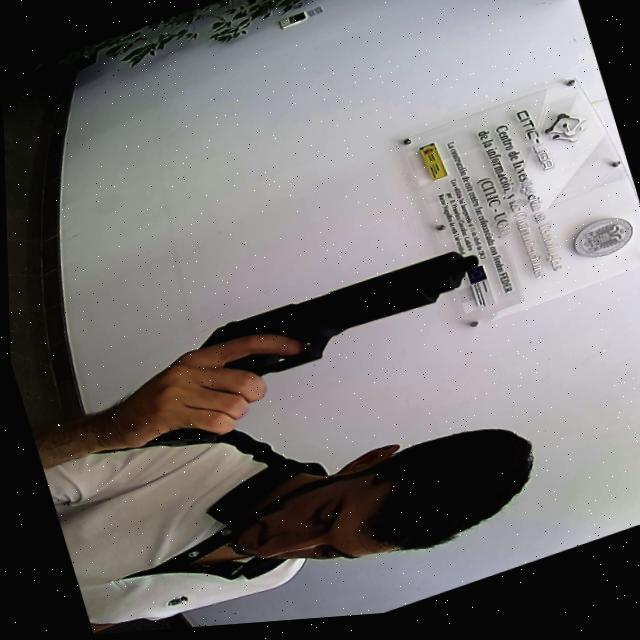pistol: (174, 241, 492, 405)
